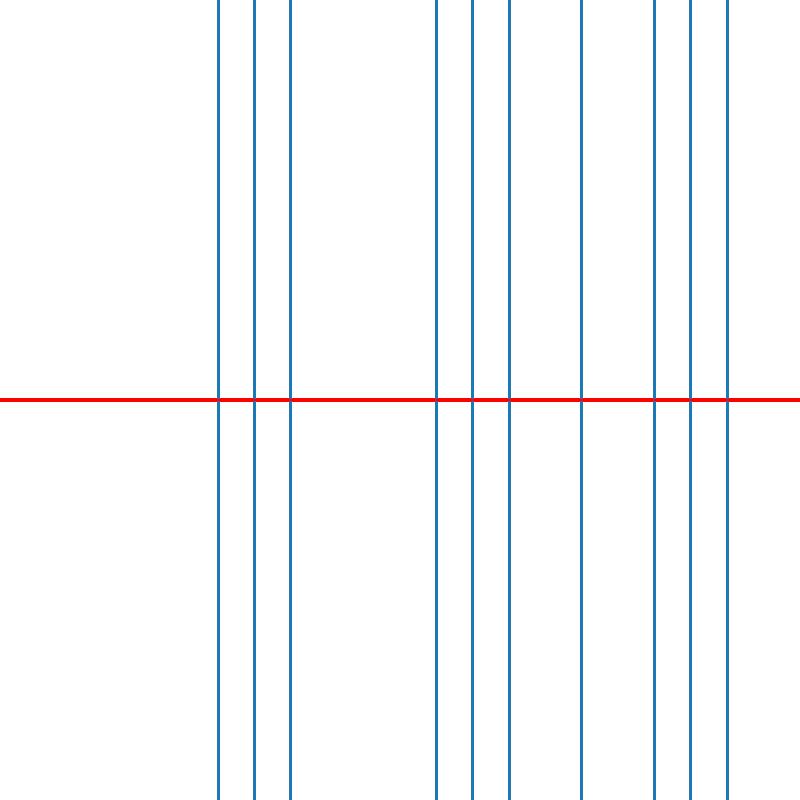root: (432, 396, 440, 404), (650, 396, 658, 404), (250, 396, 258, 404), (578, 396, 585, 404), (287, 396, 294, 404), (687, 396, 694, 404), (505, 396, 512, 404), (469, 396, 476, 404), (723, 396, 730, 404), (214, 396, 221, 404)
